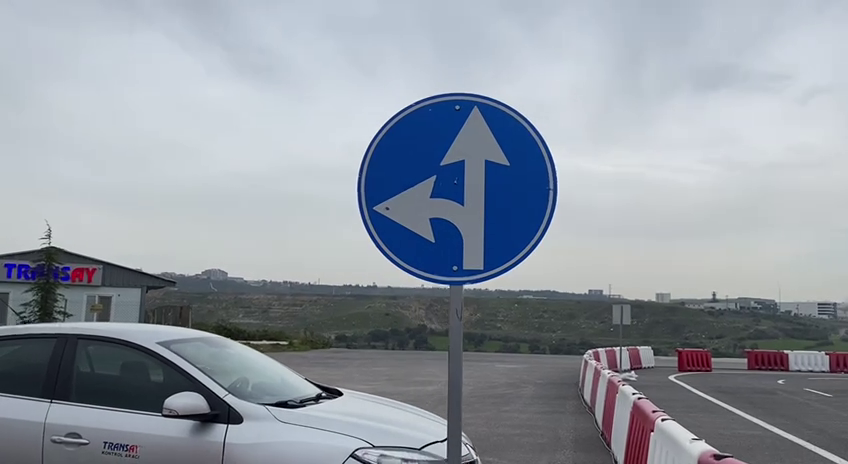forwardAndLeft: (352, 87, 562, 288)
